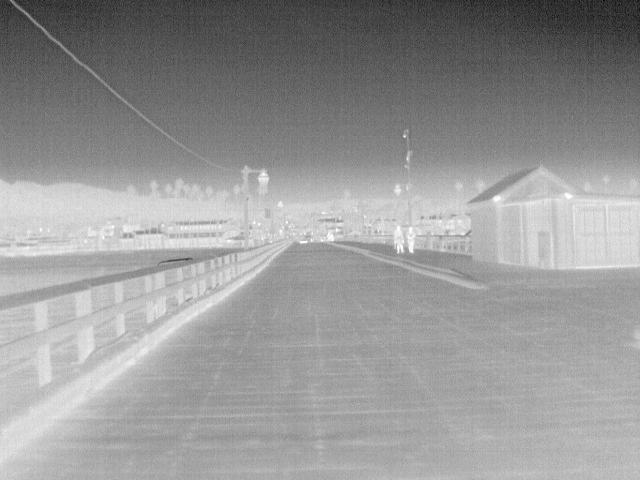person: (392, 223, 405, 256), (406, 224, 419, 255)
